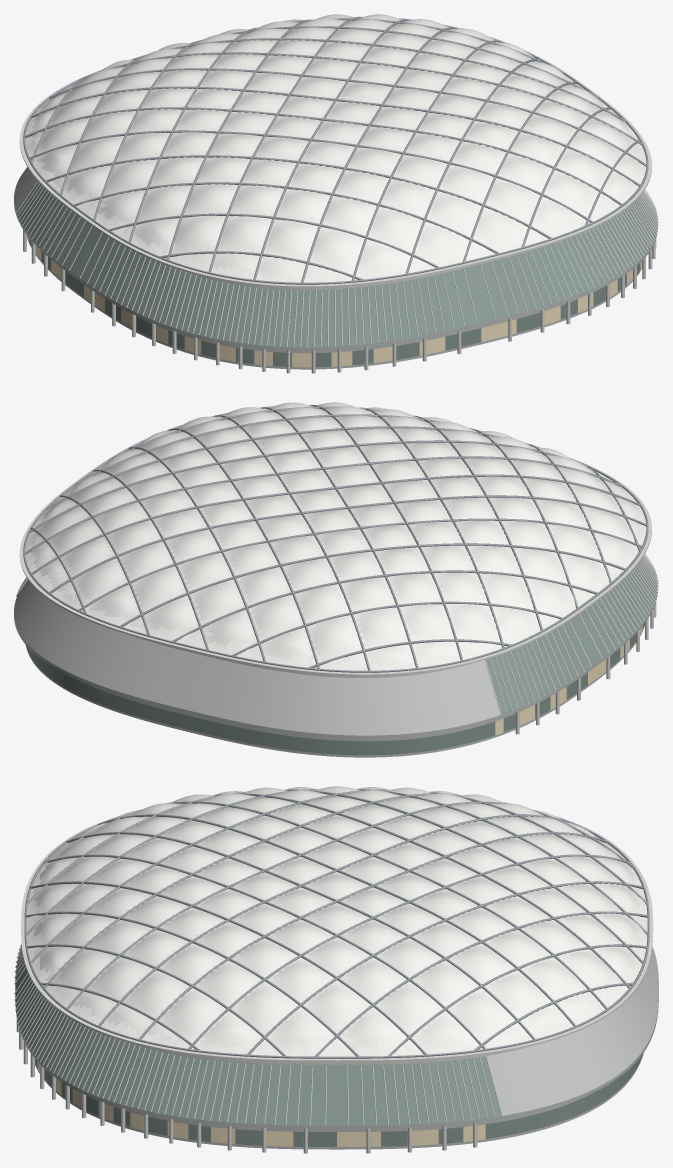
File: tokyo-tokyo-dome.detail.glb
3 views of the same model, one above another, from view 1: azimuth 30°, elevation 25°; view 2: azimuth 150°, elevation 25°; view 3: azimuth 270°, elevation 25° (orthographic). The views are drawn at different scales.
Visible parts, largest first — view 1: Tokyo Dome; view 2: Tokyo Dome; view 3: Tokyo Dome.
Part boxes in pixels (bbox=[...]): Tokyo Dome: bbox=[14, 14, 658, 373]; Tokyo Dome: bbox=[14, 402, 658, 757]; Tokyo Dome: bbox=[14, 786, 658, 1153].
Bounding box in the file's own units: 215 × 55.87 × 214.
